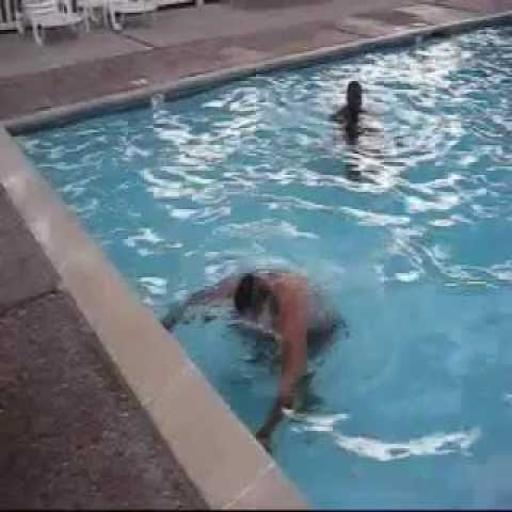swimming: (160, 263, 350, 450)
